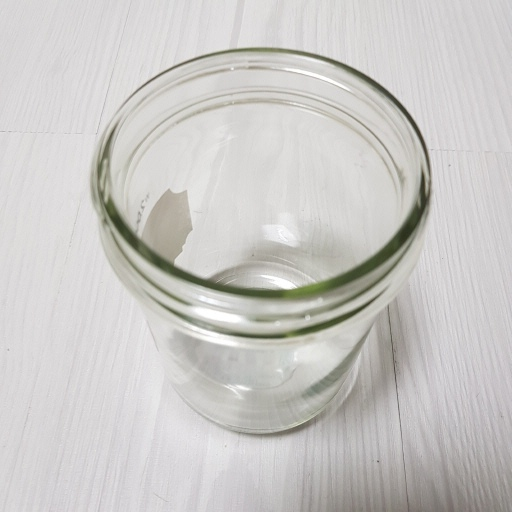Glass_5: (89, 41, 431, 441)
